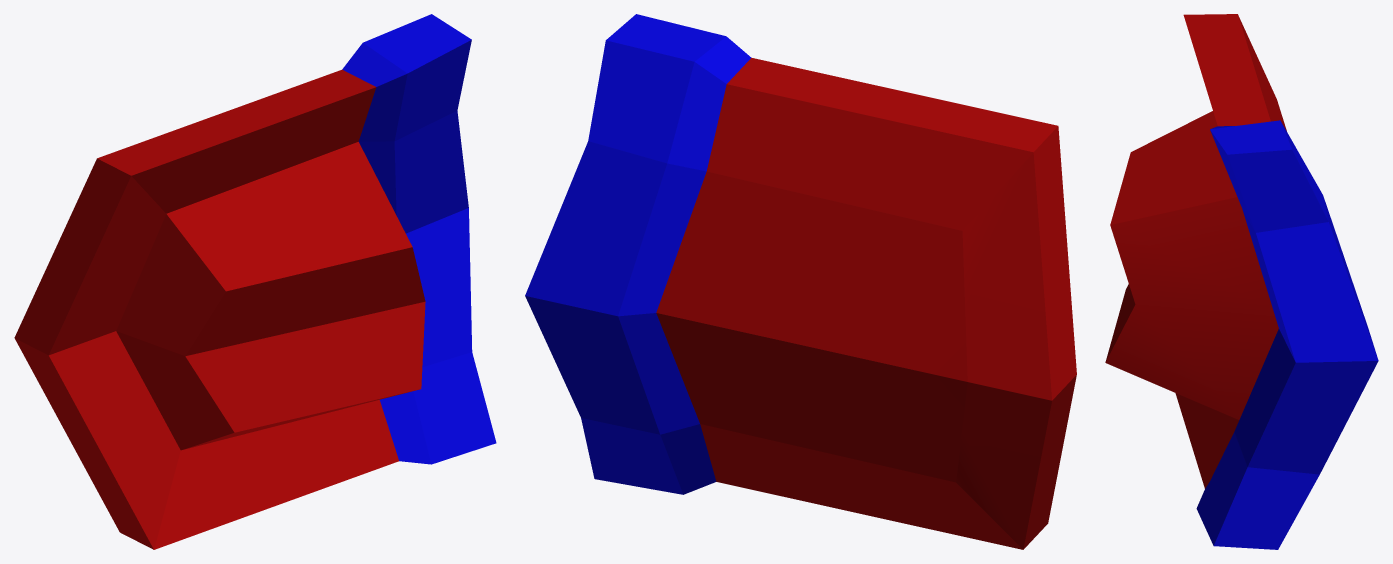
The model's file is Chr_ElbowAttachRight_Static_02.fbx.
The picture shows the model from 3 angles, left to right: view 1: azimuth 30°, elevation 25°; view 2: azimuth 150°, elevation 25°; view 3: azimuth 270°, elevation 25°; orthographic projection. The views are drawn at different scales.
Visible parts, largest first — view 1: Chr_ElbowAttachRight_02; view 2: Chr_ElbowAttachRight_02; view 3: Chr_ElbowAttachRight_02.
Part boxes in pixels (box(x1,y1,x2,y2)): Chr_ElbowAttachRight_02: box(14, 14, 496, 549); Chr_ElbowAttachRight_02: box(525, 14, 1076, 549); Chr_ElbowAttachRight_02: box(1105, 14, 1378, 549).
Bounding box in the file's own units: 12.53 × 10.91 × 6.89.
